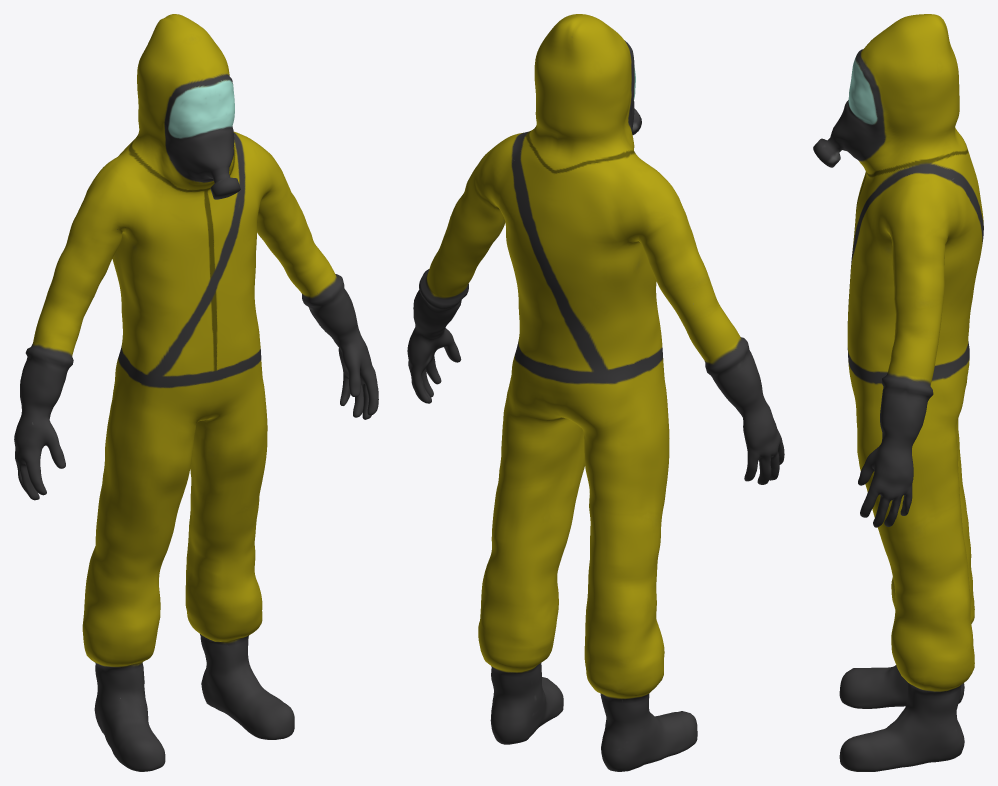
File: RoughCharacter.fbx
3 renders of one model, left to right at view 1: azimuth 30°, elevation 25°; view 2: azimuth 150°, elevation 25°; view 3: azimuth 270°, elevation 25°, orthographic. The views are drawn at different scales.
Visible parts, largest first — view 1: pCylinder2; view 2: pCylinder2; view 3: pCylinder2.
Part boxes in pixels (<box>): pCylinder2: <box>14,14,378,771</box>; pCylinder2: <box>407,14,784,771</box>; pCylinder2: <box>813,14,983,771</box>.
Size of the model in its own units: 96.45 by 185 by 39.82.
